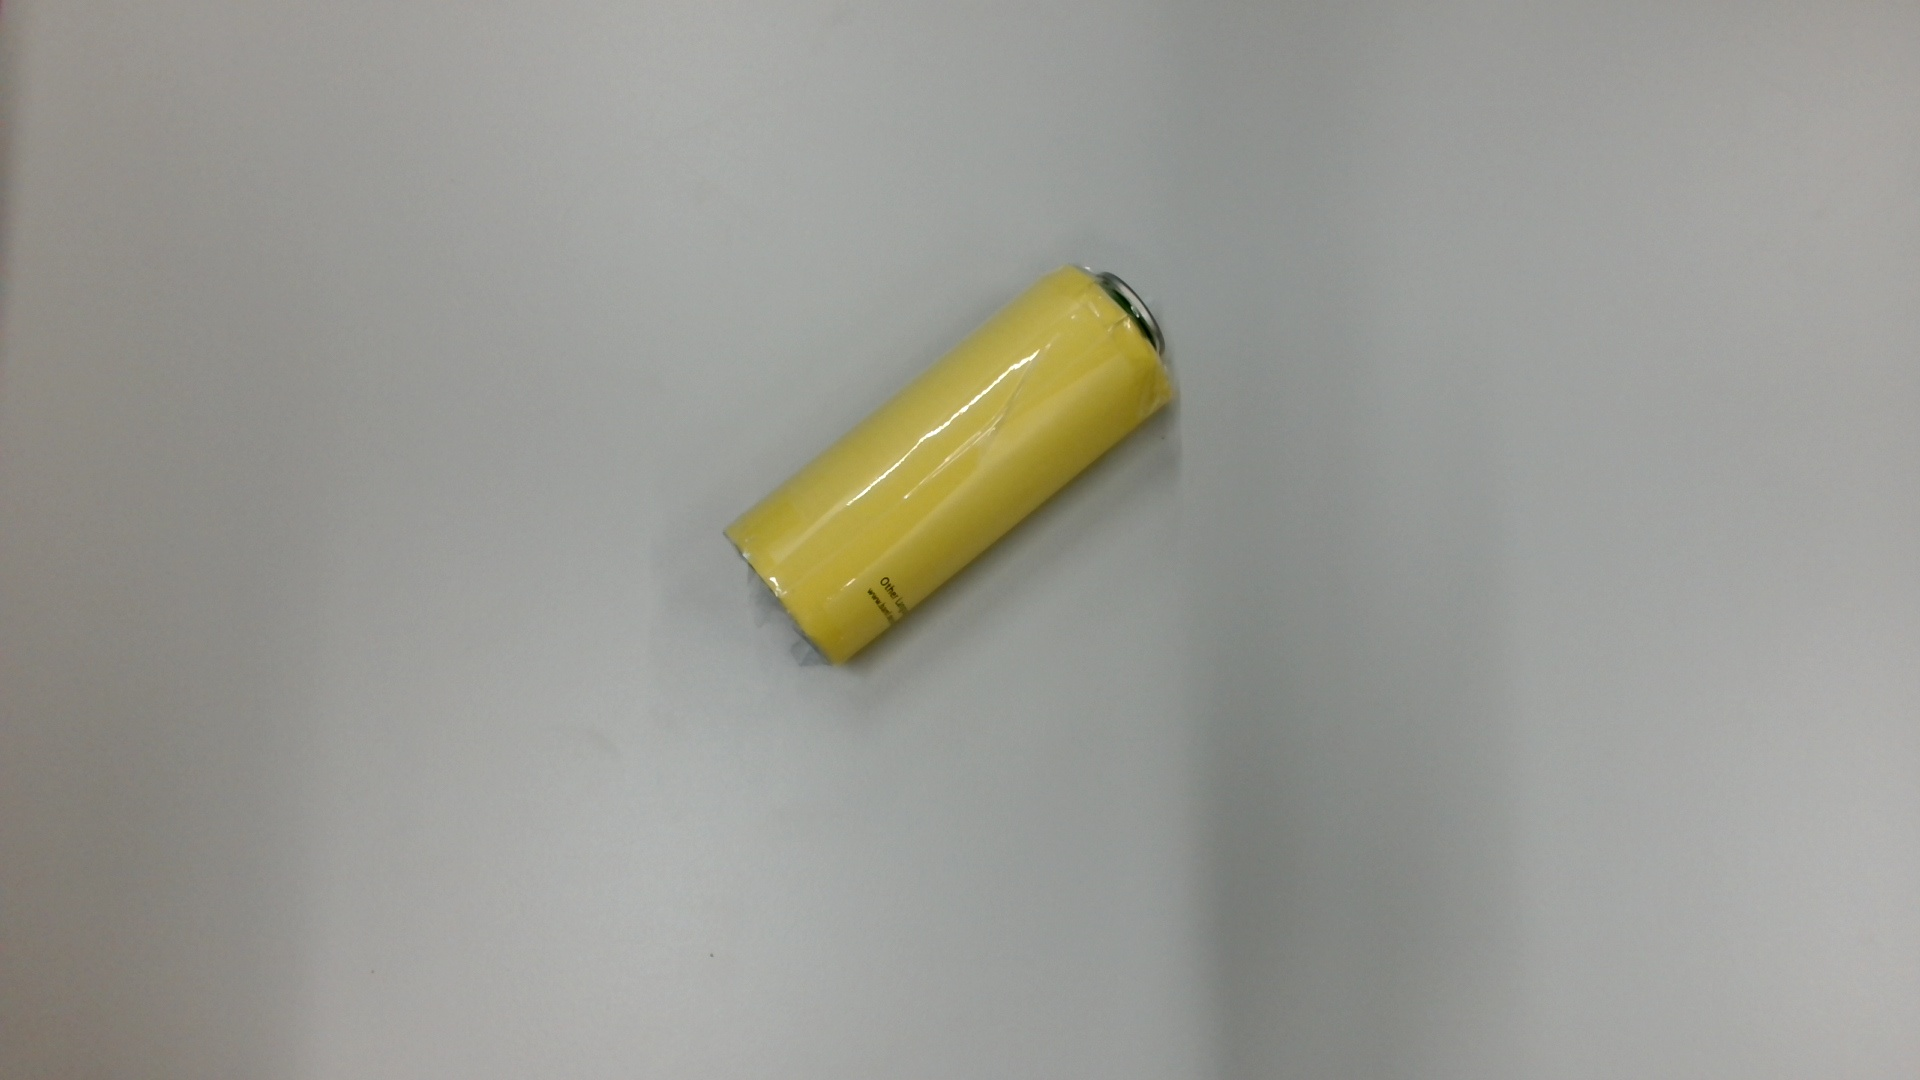Cylinder: (713, 255, 1200, 687)
